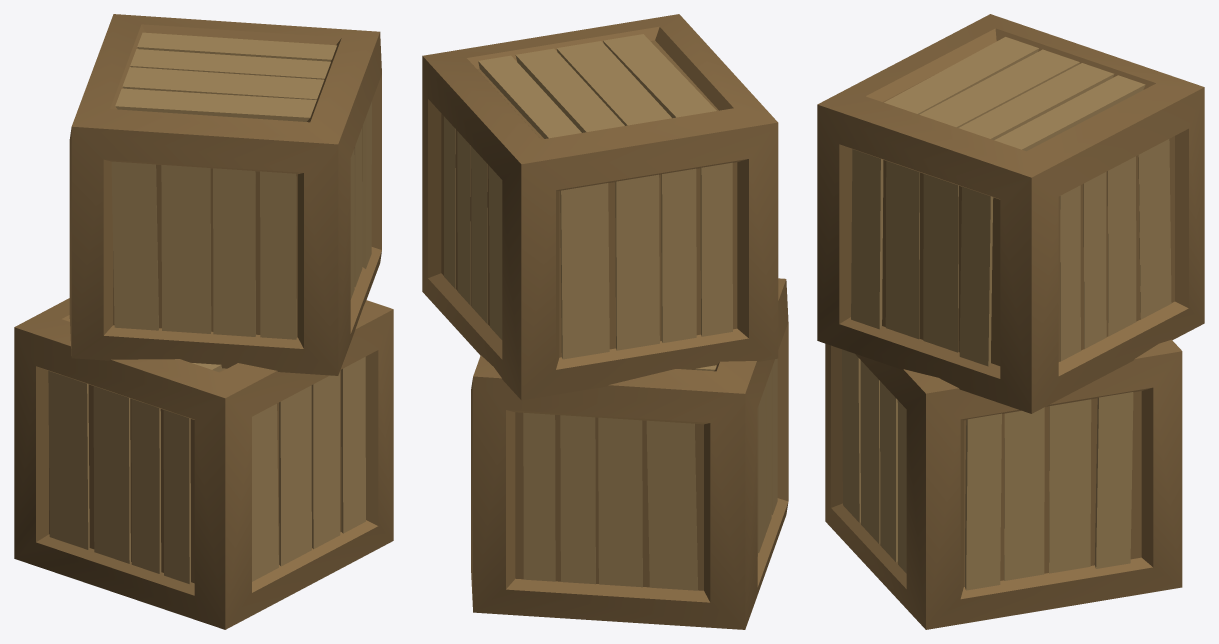
File: quaternius-real-time-strategy-crate-big-stack-2.glb
The picture shows the model from 3 angles, left to right: view 1: azimuth 30°, elevation 25°; view 2: azimuth 150°, elevation 25°; view 3: azimuth 270°, elevation 25°; orthographic projection. The views are drawn at different scales.
Parts seen in each view (by area): view 1: Crate_Big_Stack2; view 2: Crate_Big_Stack2; view 3: Crate_Big_Stack2.
Part boxes in pixels (left/top/right/bottom): Crate_Big_Stack2: left=14, top=14, right=393, bottom=629; Crate_Big_Stack2: left=422, top=14, right=788, bottom=629; Crate_Big_Stack2: left=817, top=14, right=1204, bottom=629.
Bounding box in the file's own units: 0.2474 × 0.3281 × 0.2383.
